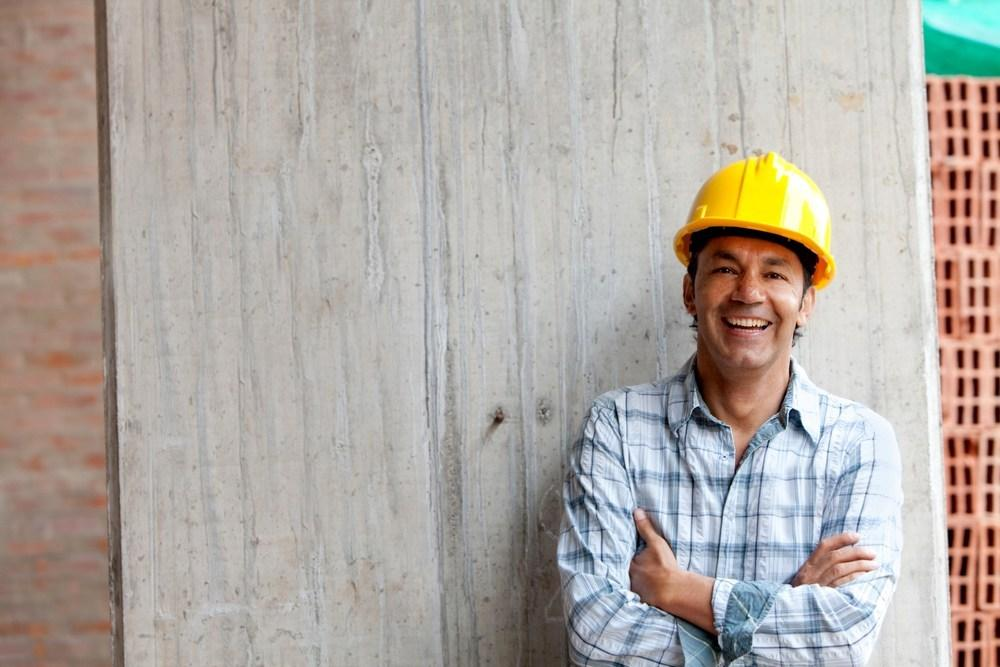helmet: (673, 154, 838, 284)
